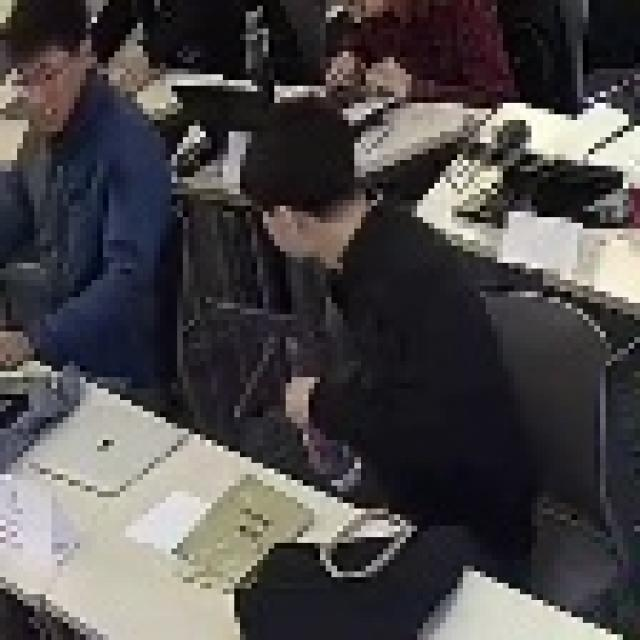trance: (236, 100, 524, 547), (3, 4, 188, 392)
